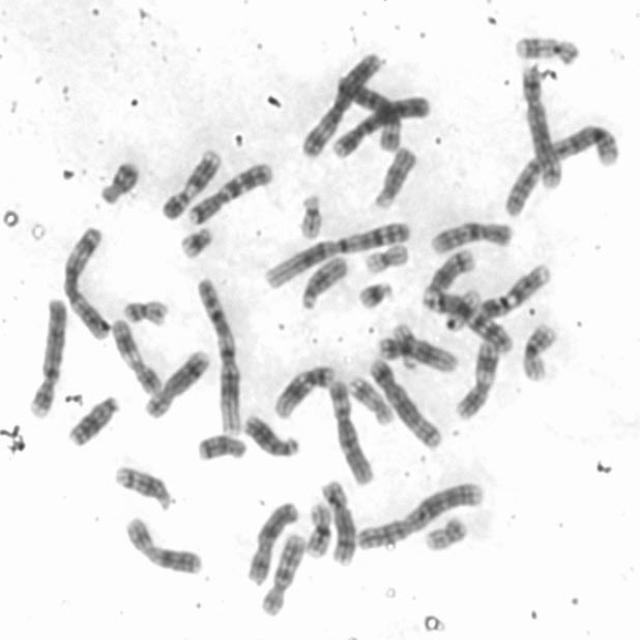A1: (257, 215, 414, 290), (192, 273, 244, 437)
A2: (498, 118, 624, 220), (351, 475, 487, 551)
A3: (295, 44, 386, 160), (56, 220, 112, 340)
B4: (325, 88, 431, 158), (23, 290, 69, 420)
B5: (364, 351, 446, 451), (515, 58, 565, 190)
C10: (256, 527, 308, 618), (426, 215, 514, 256)
C11: (106, 312, 166, 398), (451, 334, 501, 422)
C12: (269, 358, 338, 420), (373, 330, 458, 374)
C6: (331, 65, 404, 152), (324, 372, 377, 486)
C7: (419, 286, 516, 354), (182, 156, 274, 226)
C8: (139, 343, 212, 421), (316, 473, 358, 568)
C9: (156, 142, 225, 221), (474, 258, 553, 320)
D13: (63, 388, 123, 448), (240, 408, 302, 458)
D14: (110, 458, 177, 513), (421, 243, 478, 301)
D15: (368, 140, 421, 212), (297, 249, 353, 310)
E16: (517, 316, 560, 383), (300, 496, 336, 559)
E17: (342, 370, 394, 427), (511, 29, 582, 65)
E18: (95, 153, 144, 206), (192, 427, 250, 464)
F19: (440, 284, 484, 334), (359, 237, 411, 276)
F20: (420, 510, 470, 552), (118, 292, 172, 327)
G21: (174, 219, 215, 260), (353, 275, 396, 310)
G22: (388, 318, 421, 372), (293, 187, 325, 240)
X: (119, 510, 205, 577), (242, 494, 300, 586)
